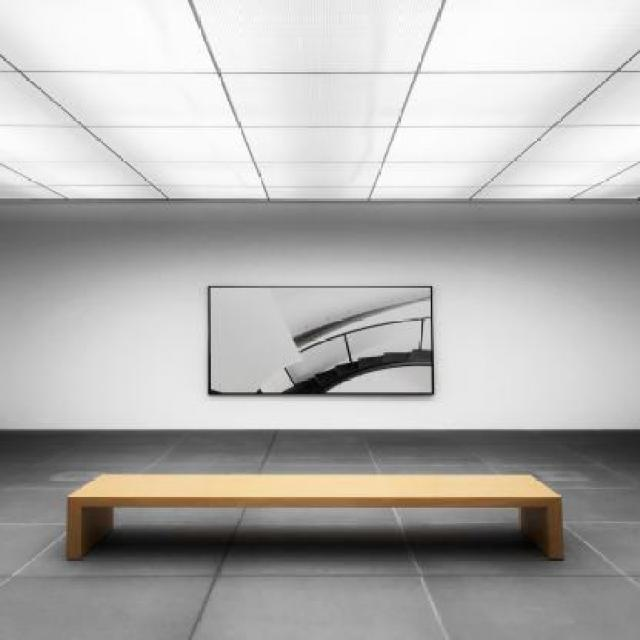Floor: (1, 429, 446, 639), (360, 428, 640, 639)
